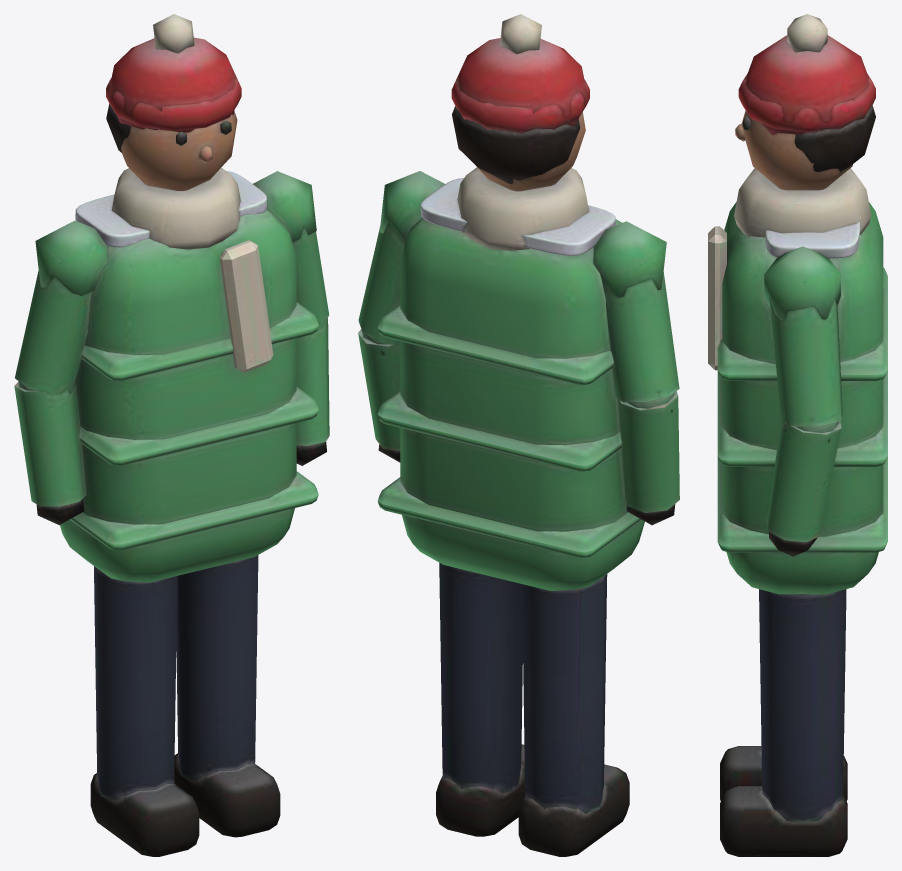
The model's file is citizen_child.glb.
3 views of the same model, side by side, from view 1: azimuth 30°, elevation 25°; view 2: azimuth 150°, elevation 25°; view 3: azimuth 270°, elevation 25° (orthographic). The views are drawn at different scales.
Parts seen in each view (by area): view 1: citizen_child; view 2: citizen_child; view 3: citizen_child.
Part boxes in pixels (x1=…): citizen_child: x1=14, y1=14, x2=329, y2=856; citizen_child: x1=358, y1=14, x2=679, y2=856; citizen_child: x1=708, y1=14, x2=887, y2=856.
Size of the model in its own units: 0.5108 by 1.29 by 0.2584.
1 material, 1 textured.
